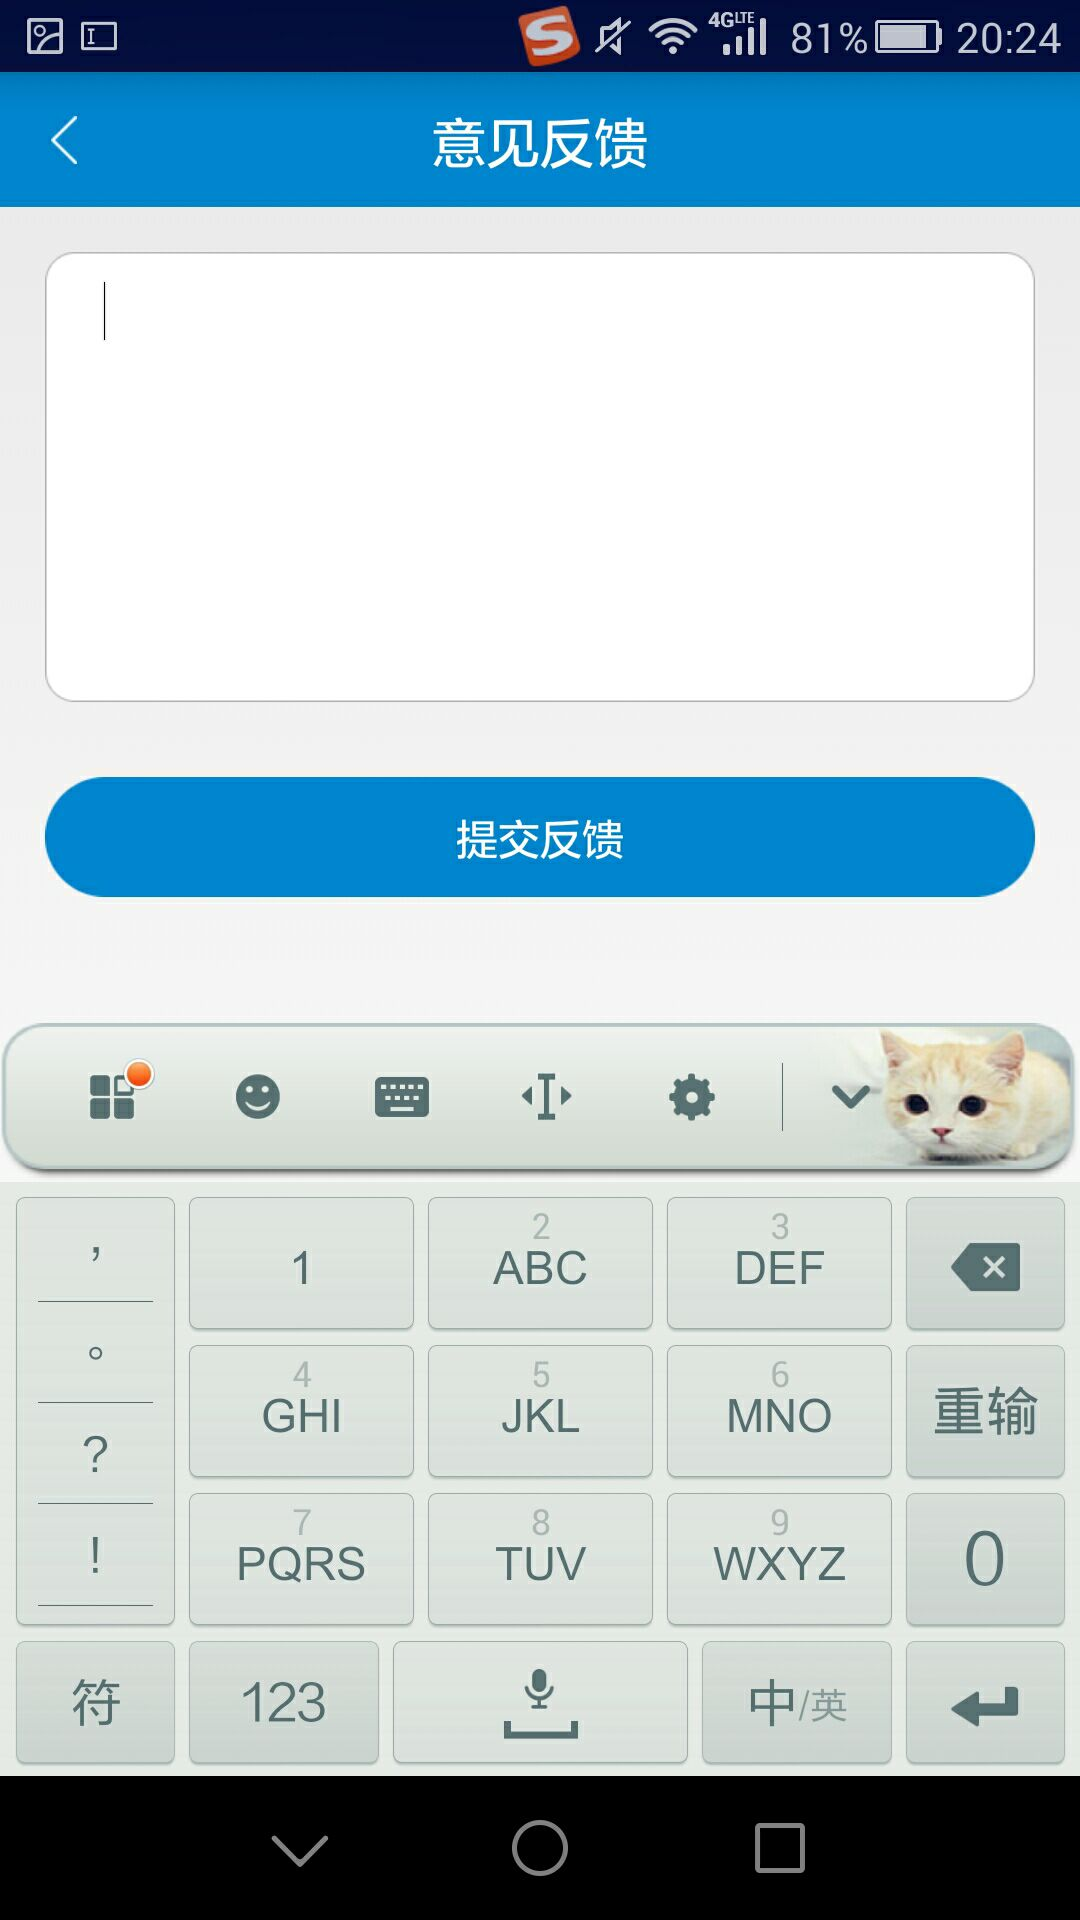button: (20, 757, 1058, 920)
textview: (33, 227, 1043, 727)
